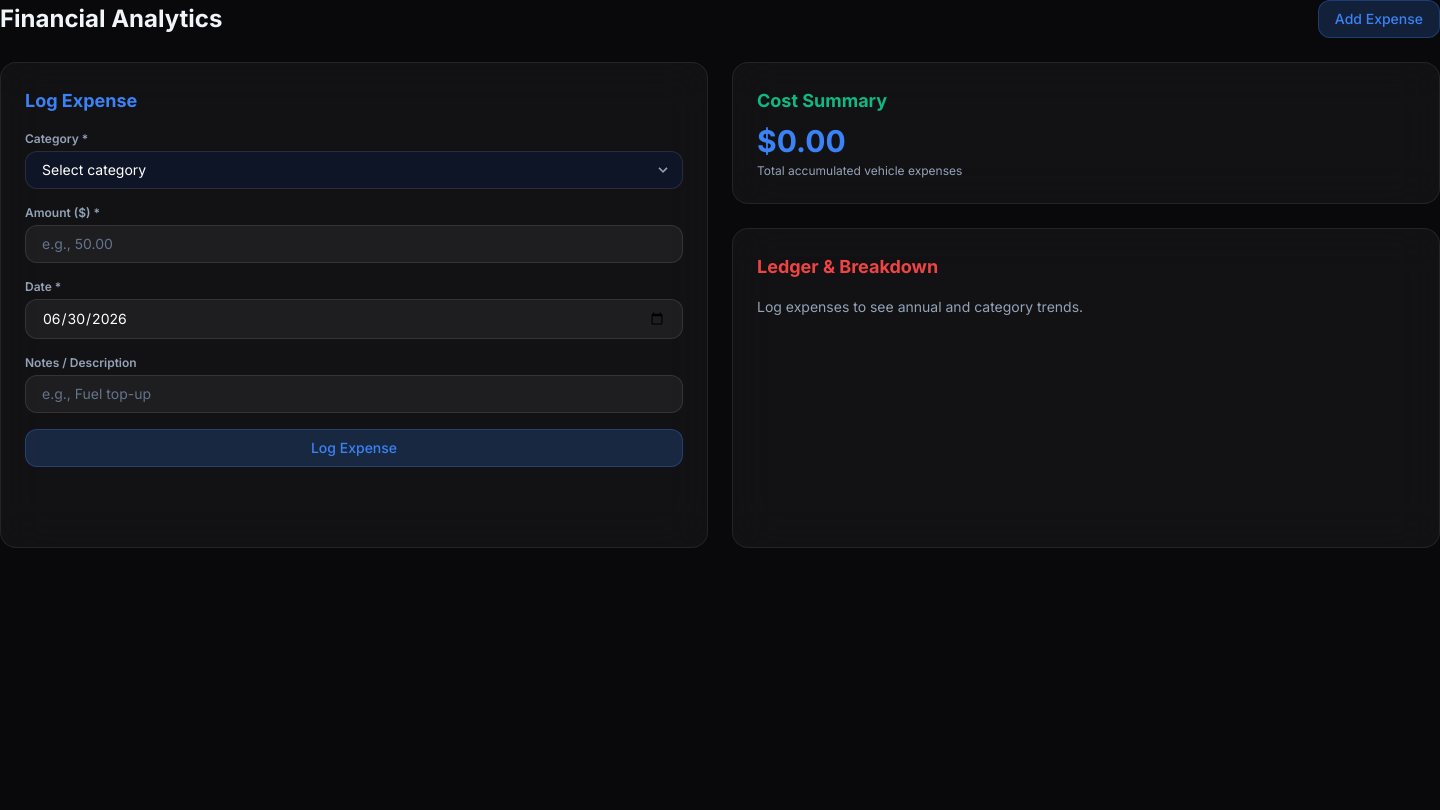
FinanceView Unit Tests › Normal (Inline) Expense Logging › successfully submits valid expense data and resets form fields
The image size is (1440, 810).
Select "Fuel" in the dropdown with id "expense-category": (354, 170) [25, 151, 683, 189]
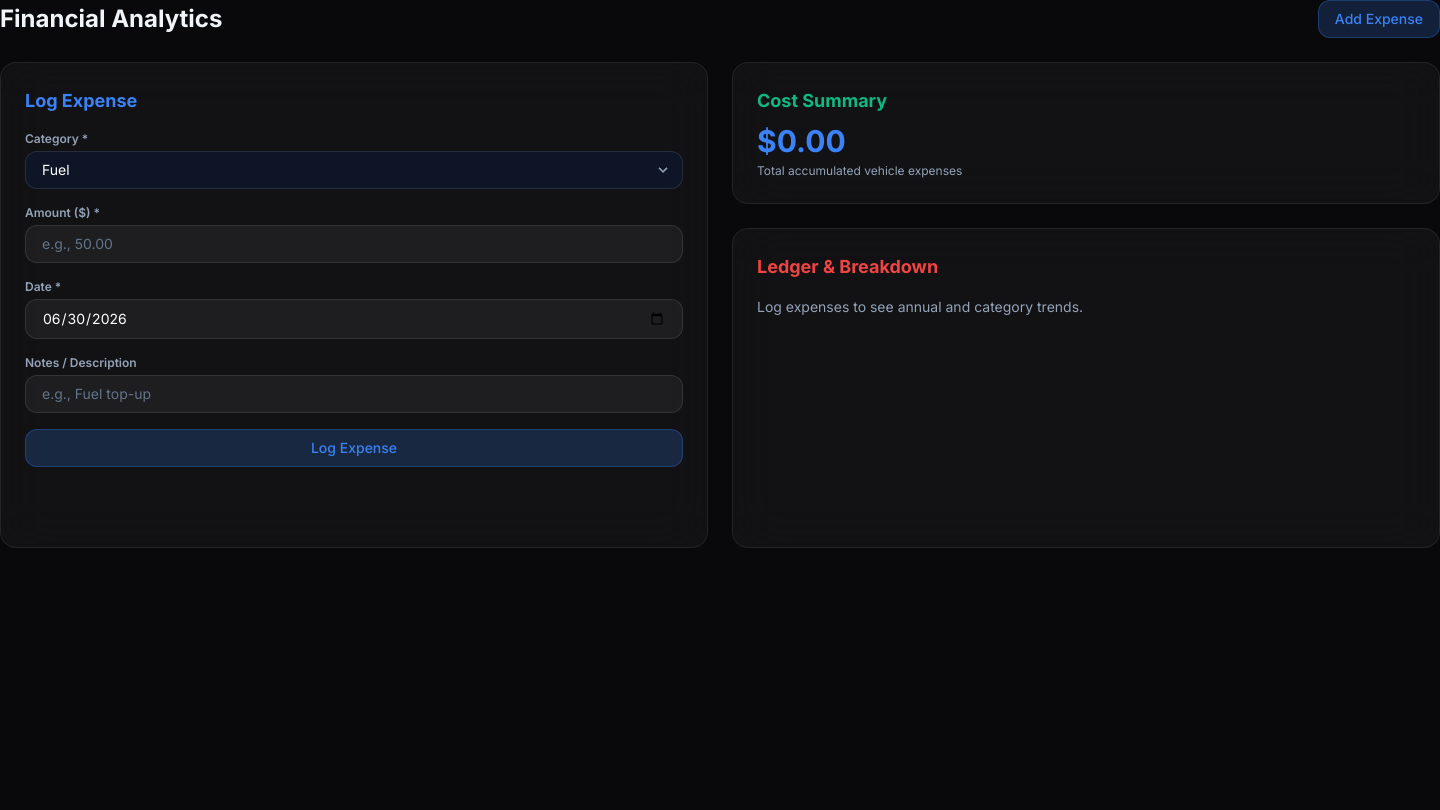
In the number field with id "amount": (354, 244) [25, 225, 683, 263], type "50.25"
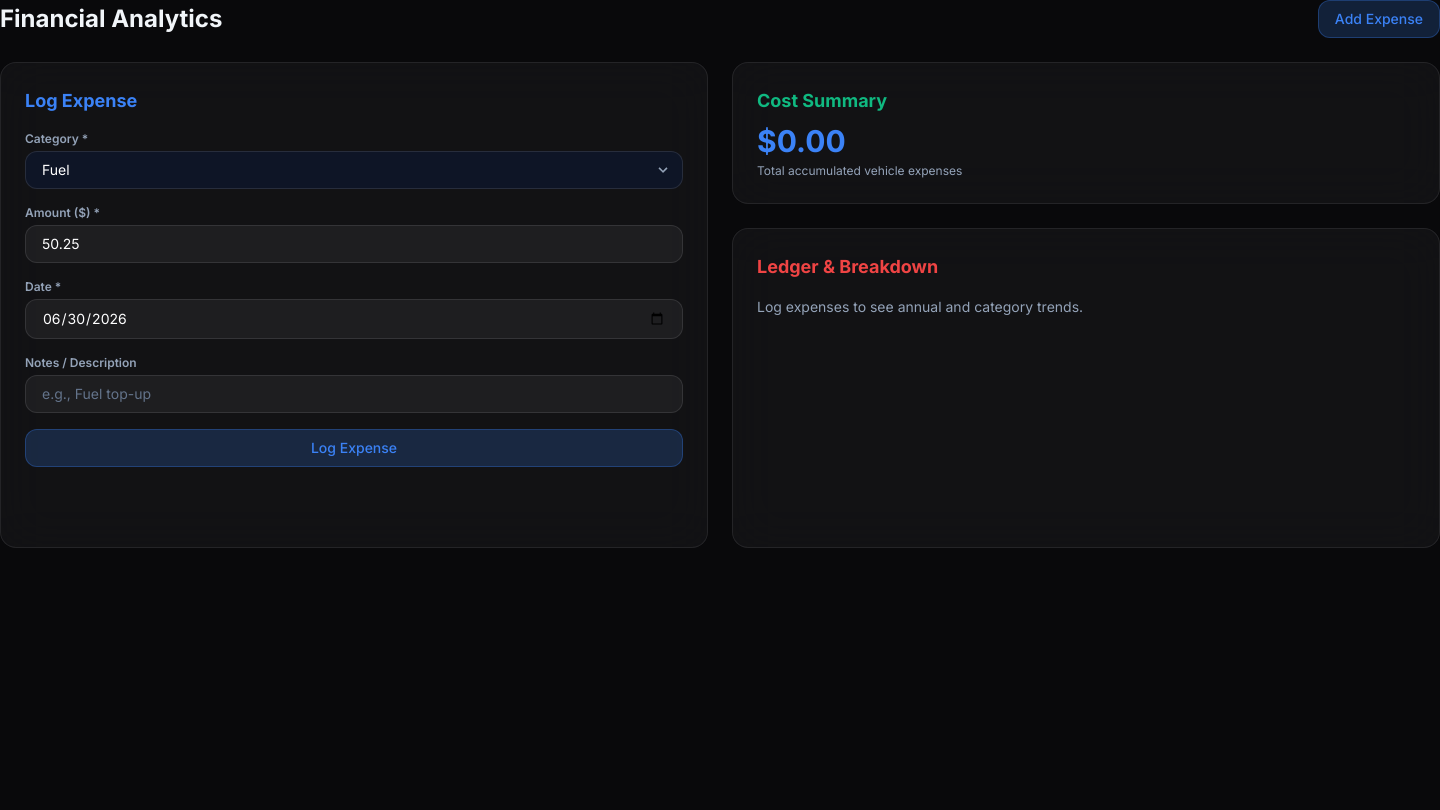
In the date field with id "expense-date": (354, 319) [25, 299, 683, 339], type "2026-06-28"
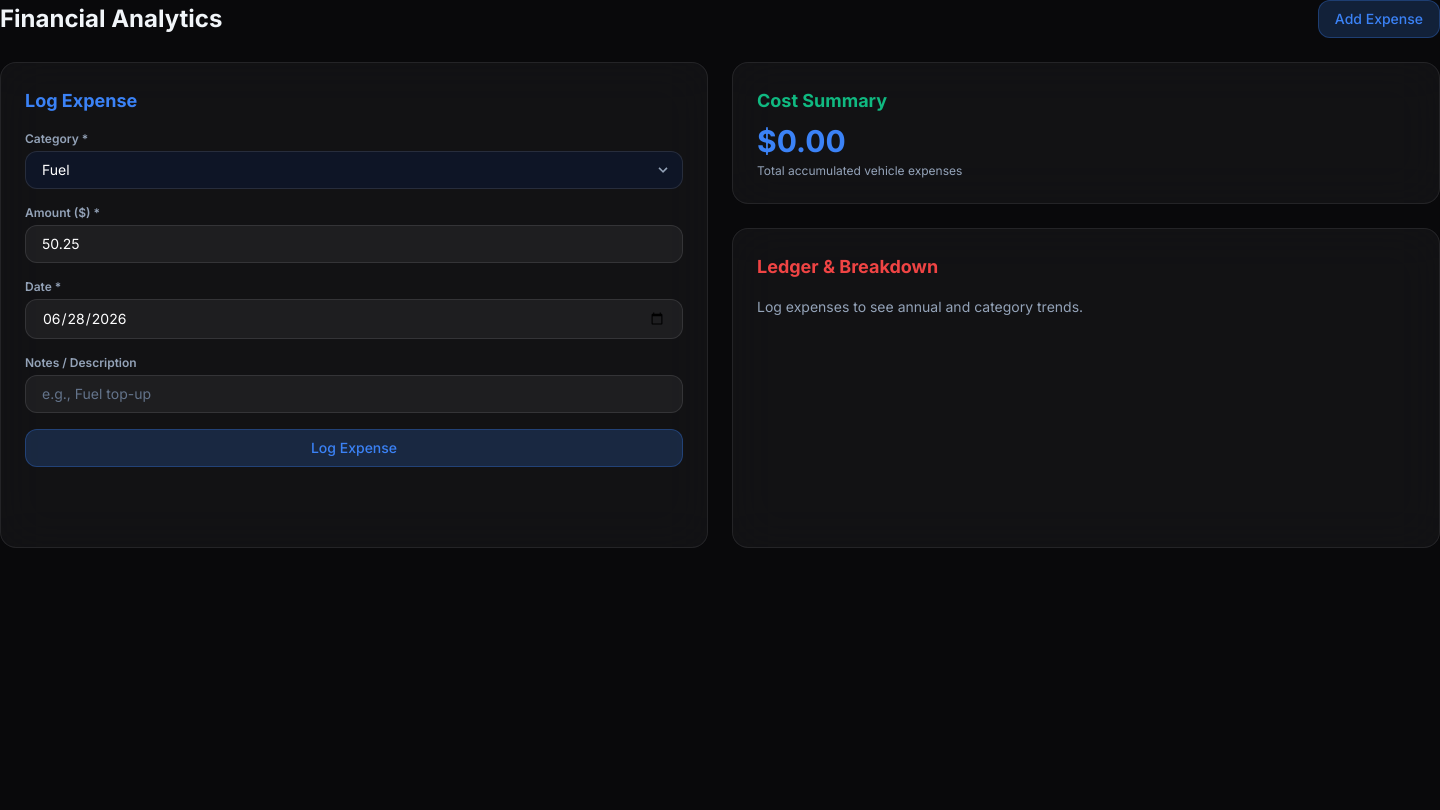
In the field with id "expense-notes": (354, 394) [25, 375, 683, 413], type "Weekly fuel top-up"
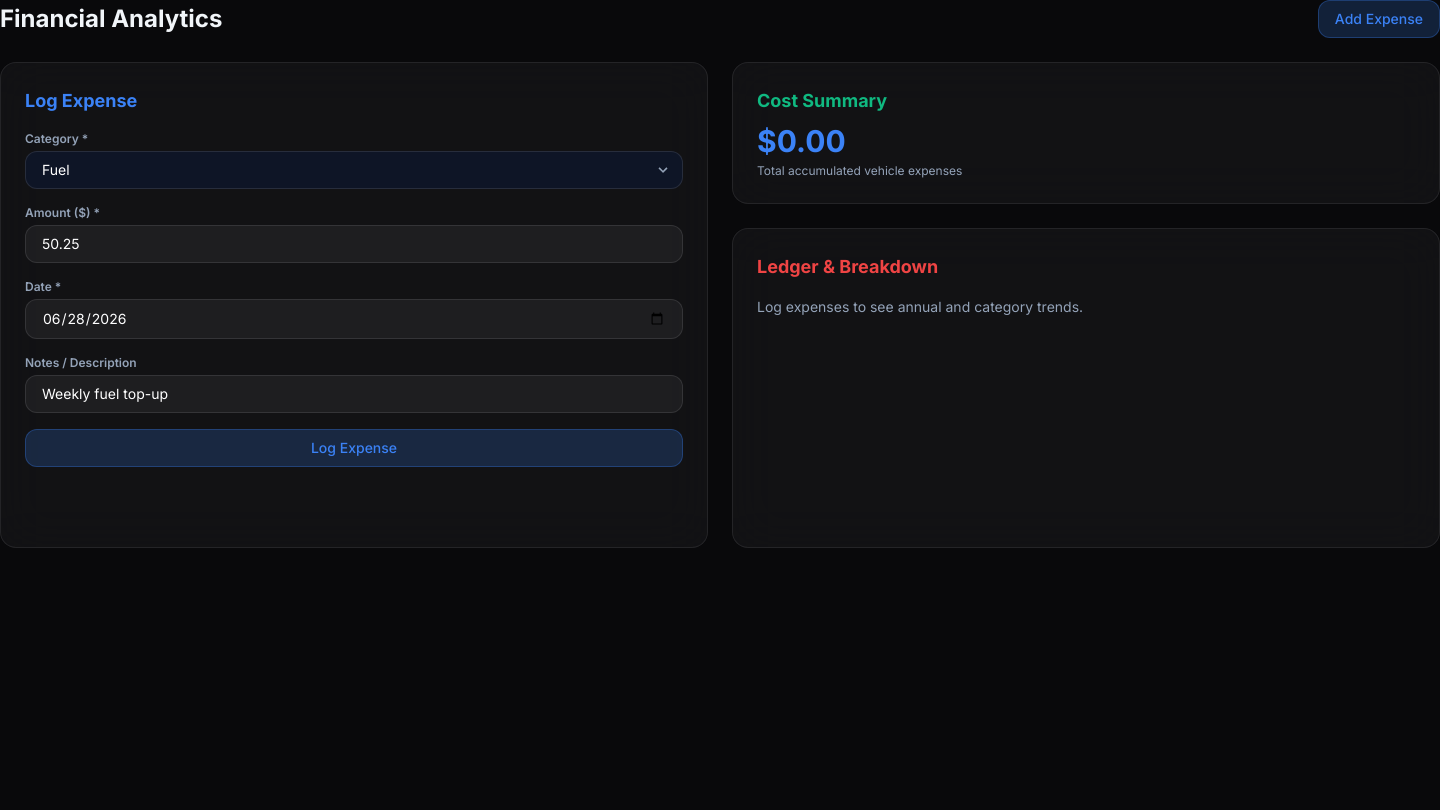
Click the button "Log Expense": (354, 448) [25, 429, 683, 467]
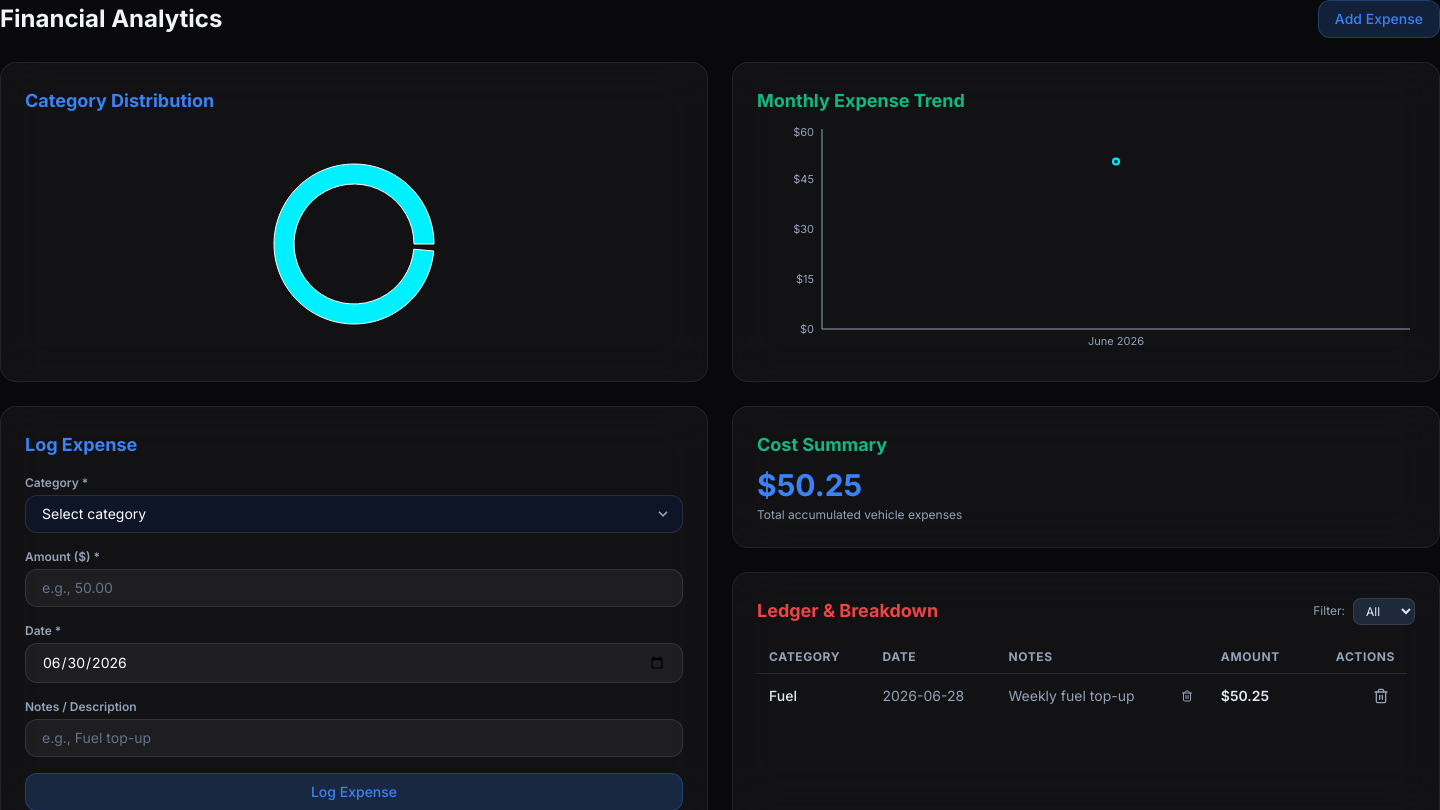
Check: the number field with id "amount" is empty, box [25, 569, 683, 607]
Check: the field with id "expense-notes" is empty, box [25, 719, 683, 757]
Check: the date field with id "expense-date" holds "2026-06-30", box [25, 643, 683, 683]
